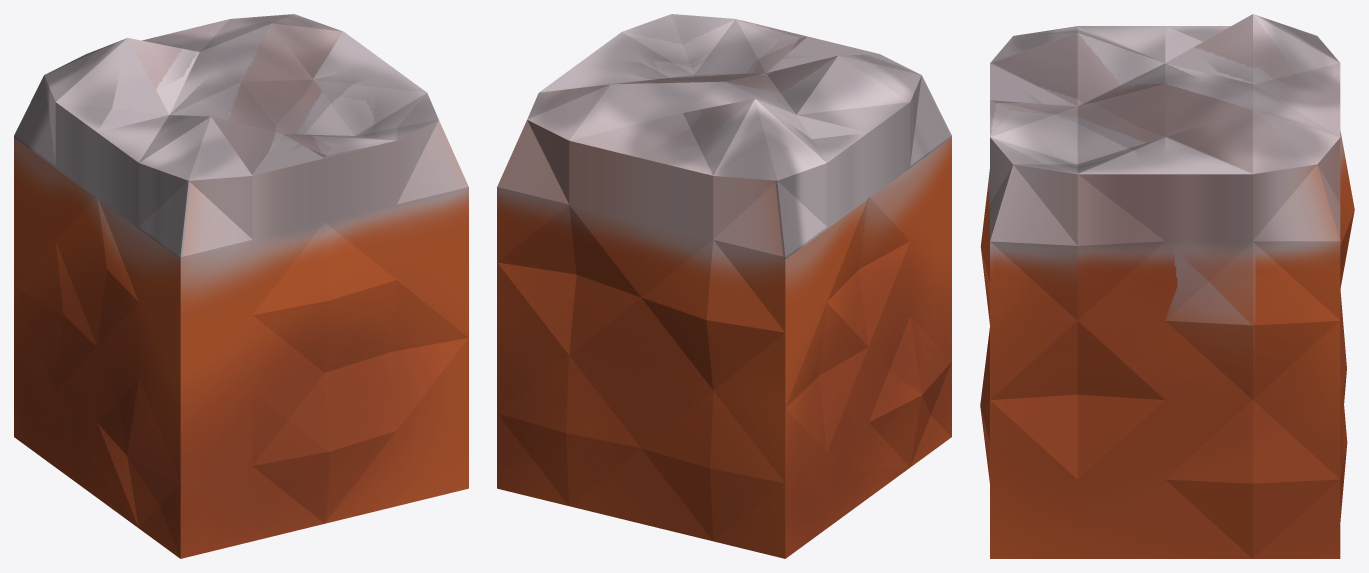
The model's file is DebugWall.obj.
The picture shows the model from 3 angles, left to right: view 1: azimuth 30°, elevation 25°; view 2: azimuth 150°, elevation 25°; view 3: azimuth 270°, elevation 25°; orthographic projection. The views are drawn at different scales.
Parts seen in each view (by area): view 1: Cube; view 2: Cube; view 3: Cube.
Part boxes in pixels (bbox=[...]): Cube: bbox=[14, 14, 468, 558]; Cube: bbox=[497, 14, 951, 558]; Cube: bbox=[980, 14, 1354, 558].
Bounding box in the file's own units: 1.99 × 2.53 × 1.98.
1 material, 1 textured.
